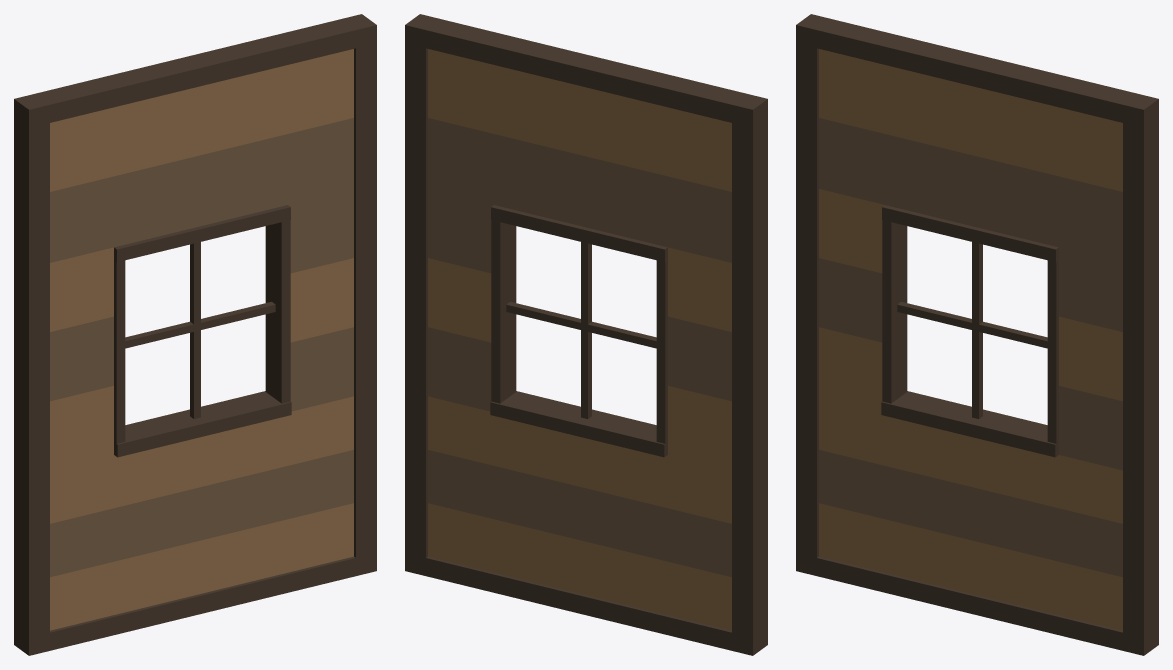
File: base_wall_window.glb
The picture shows the model from 3 angles, left to right: view 1: azimuth 30°, elevation 25°; view 2: azimuth 150°, elevation 25°; view 3: azimuth 330°, elevation 25°; orthographic projection.
Visible parts, largest first — view 1: base_wall_window; view 2: base_wall_window; view 3: base_wall_window.
Part boxes in pixels (left/top/right/bottom): base_wall_window: left=14, top=14, right=376, bottom=655; base_wall_window: left=405, top=14, right=767, bottom=655; base_wall_window: left=796, top=14, right=1158, bottom=655.
Size of what is drawn, in the model's own units: 2 by 3 by 0.18.
Materials: 1 (1 with a texture image).
